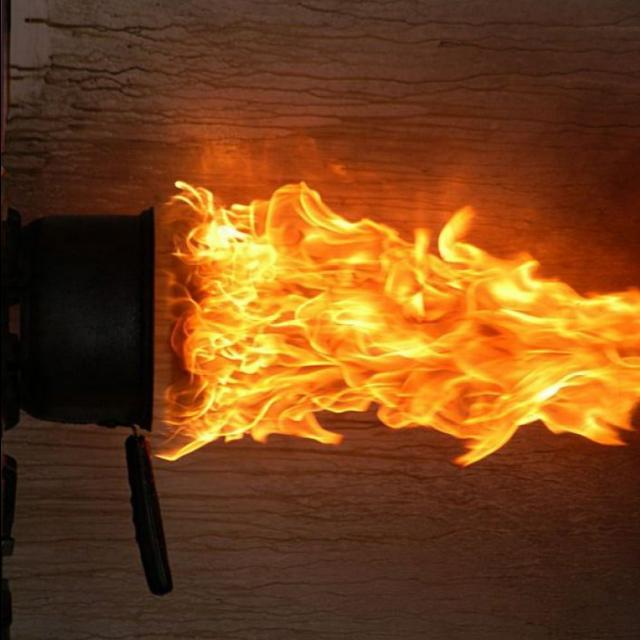Fire: (153, 173, 640, 467)
